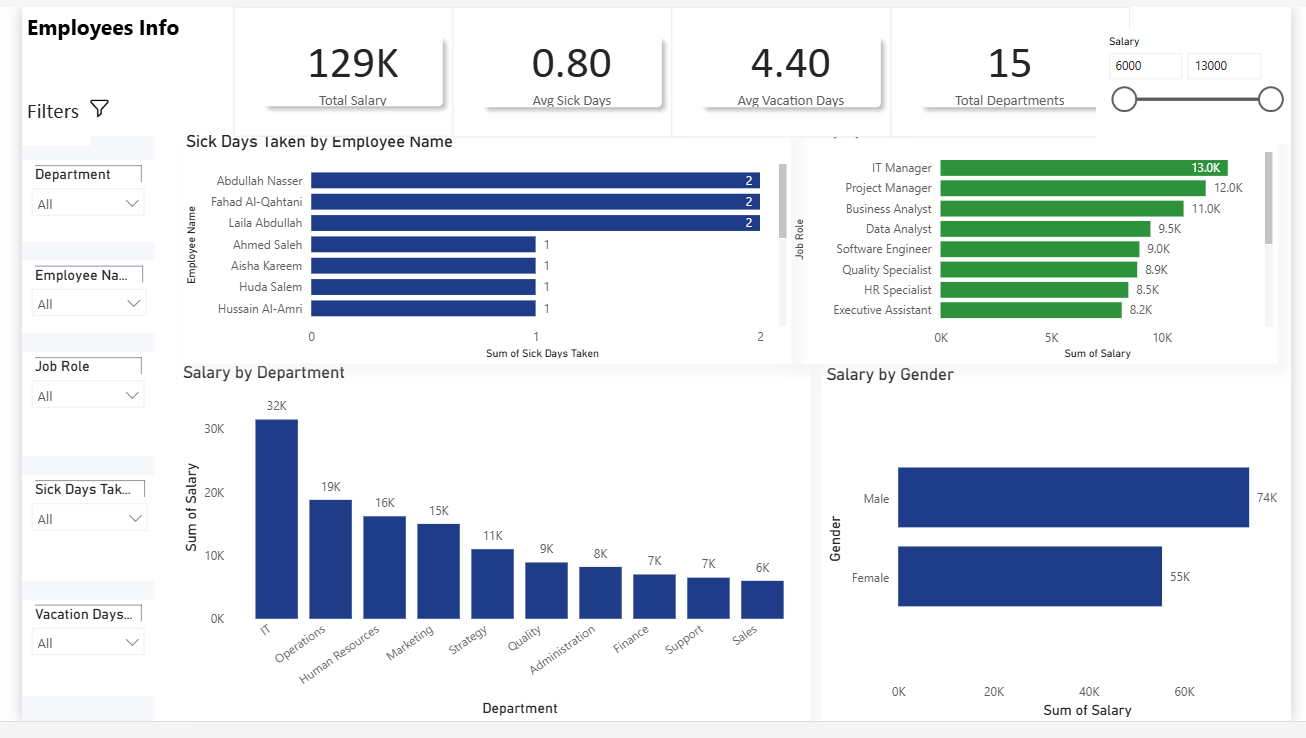

This screenshot's page, from the dashboard's own definition file:
{"tool":"powerbi","page":{"name":"Page 1","canvas":[1280,720],"ordinal":0},"visuals":[{"type":"columnChart","title":" Salary by Department","fields":{"Category":["Employees.Department"],"Y":["Employees.Salary"]},"box":[157.1,358.9,638,361.1],"z":0},{"type":"clusteredBarChart","title":" Salary by Gender","fields":{"Category":["Employees.Gender"],"Y":["Employees.Salary"]},"box":[806.4,359.5,474,361.1],"z":1000},{"type":"textbox","box":[0,0,286.6,92.3],"z":2000},{"type":"barChart","title":"Salary by Job Role","fields":{"Category":["Employees.Job Role"],"Y":["Employees.Salary"]},"box":[773,112.9,493.1,246.5],"z":3000},{"type":"clusteredBarChart","title":"Sick Days Taken by Employee Name","fields":{"Category":["Employees.Employee Name"],"Y":["Employees.Sick Days Taken"]},"box":[160.7,125.7,615.6,233.8],"z":4000},{"type":"cardVisual","fields":{"Data":["Employees.Salary"]},"box":[213.1,0,241.8,130.4],"z":5000},{"type":"cardVisual","fields":{"Data":["Employees.Sick Days Taken"]},"box":[434.8,0,241,131],"z":6000},{"type":"cardVisual","fields":{"Data":["Employees.Vacation Days Taken"]},"box":[655.6,0,241,131],"z":7000},{"type":"textbox","box":[0,130.4,133.6,590.1],"z":8000},{"type":"cardVisual","fields":{"Data":["Employees.count_dept"]},"box":[876.4,0,241,131],"z":9000},{"type":"slicer","fields":{"Values":["Employees.Department"]},"box":[0,154.3,133.6,82.7],"z":10000},{"type":"slicer","fields":{"Values":["Employees.Employee Name"]},"box":[0,256.1,135.2,73.2],"z":11000},{"type":"slicer","fields":{"Values":["Employees.Job Role"]},"box":[0,348.3,133.6,105],"z":12000},{"type":"slicer","fields":{"Values":["Employees.Salary"]},"box":[1083.2,22.3,197.2,114.5],"z":13000},{"type":"slicer","fields":{"Values":["Employees.Sick Days Taken"]},"box":[0,472.4,136.8,106.6],"z":14000},{"type":"slicer","fields":{"Values":["Employees.Vacation Days Taken"]},"box":[0,598.1,133.6,97],"z":15000},{"type":"textbox","box":[0,85.9,68.4,54.1],"z":16000},{"type":"image","box":[54.1,90.7,47.7,22.3],"z":17000}]}

Visuals, with their boxes in screenshot pixels (x1, y1, x2, y2), scaled from the page's 1280x720 canvas onto the 1306x738 screenshot:
" Salary by Department" columnChart: BBox(160, 368, 811, 737)
" Salary by Gender" clusteredBarChart: BBox(823, 368, 1305, 737)
textbox: BBox(0, 0, 292, 95)
"Salary by Job Role" barChart: BBox(789, 116, 1292, 368)
"Sick Days Taken by Employee Name" clusteredBarChart: BBox(164, 129, 792, 368)
cardVisual - Employees.Salary: BBox(217, 0, 464, 134)
cardVisual - Employees.Sick Days Taken: BBox(444, 0, 690, 134)
cardVisual - Employees.Vacation Days Taken: BBox(669, 0, 915, 134)
textbox: BBox(0, 134, 136, 737)
cardVisual - Employees.count_dept: BBox(894, 0, 1140, 134)
slicer - Employees.Department: BBox(0, 158, 136, 243)
slicer - Employees.Employee Name: BBox(0, 263, 138, 338)
slicer - Employees.Job Role: BBox(0, 357, 136, 465)
slicer - Employees.Salary: BBox(1105, 23, 1305, 140)
slicer - Employees.Sick Days Taken: BBox(0, 484, 140, 593)
slicer - Employees.Vacation Days Taken: BBox(0, 613, 136, 712)
textbox: BBox(0, 88, 70, 144)
image: BBox(55, 93, 104, 116)
